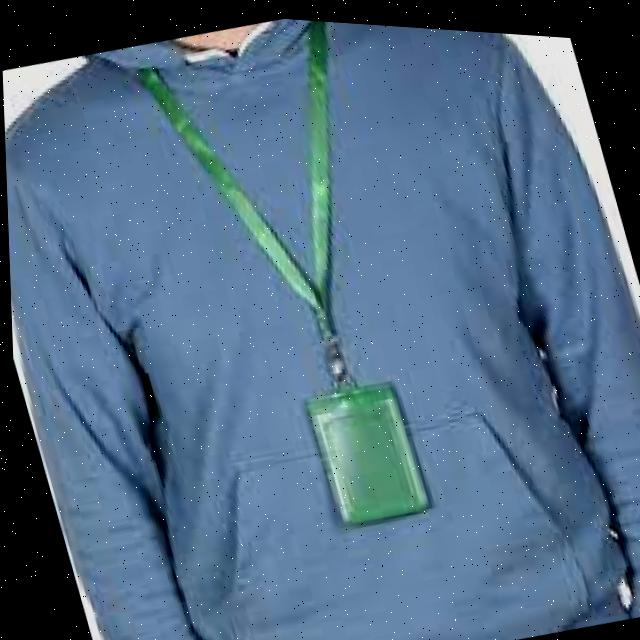id_card: (120, 6, 495, 565)
